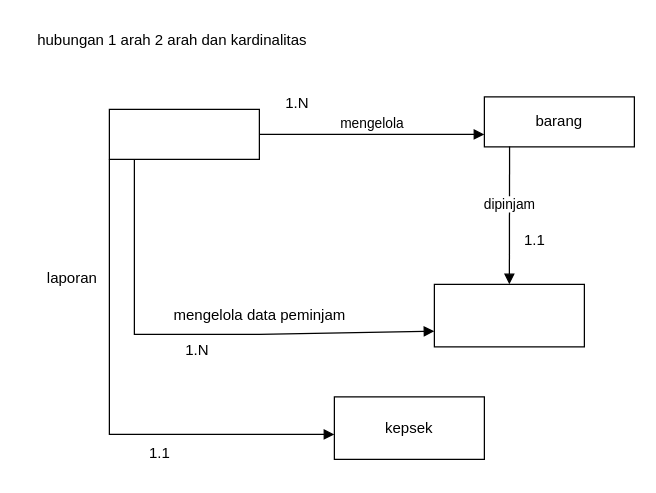
The diagram is 656 pixels wide and 493 high, and some of its shapes have lost their labels. The centre of each missing label's shape, as x and y in pixels:
"admin" belongs at (x=183, y=133).
"siswa/user" belongs at (x=508, y=315).
